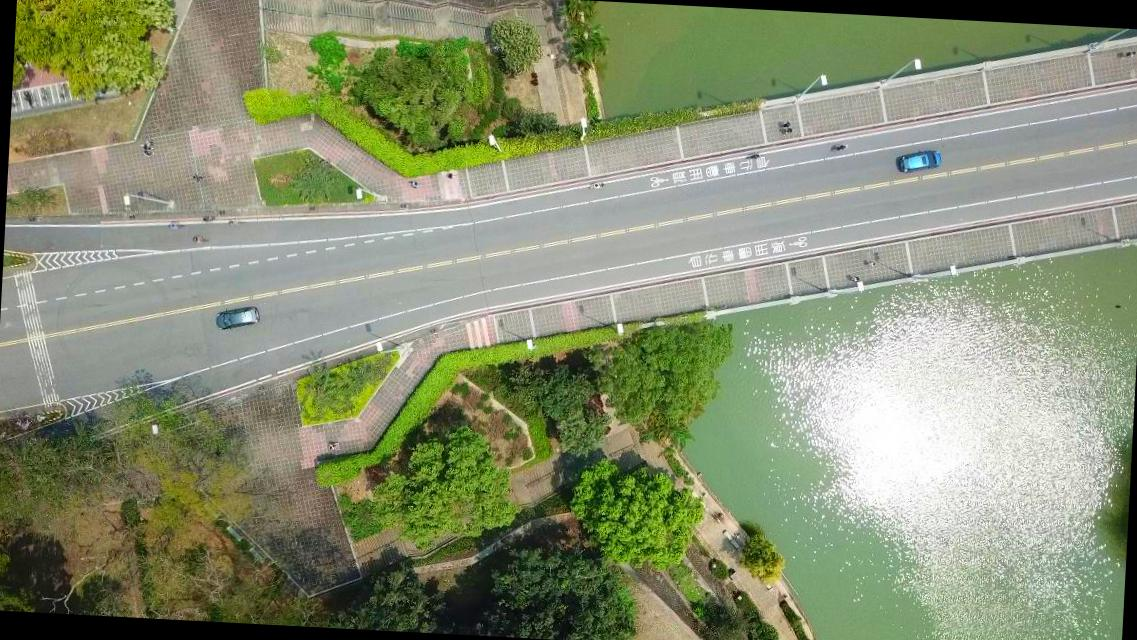vehicle: (214, 304, 258, 332), (895, 149, 940, 174)
